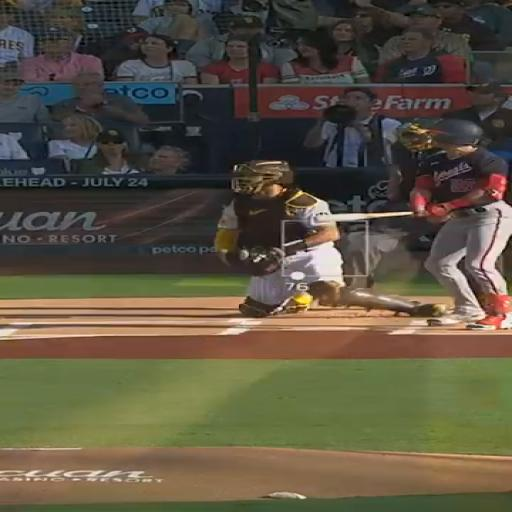bat: (316, 212, 412, 223)
